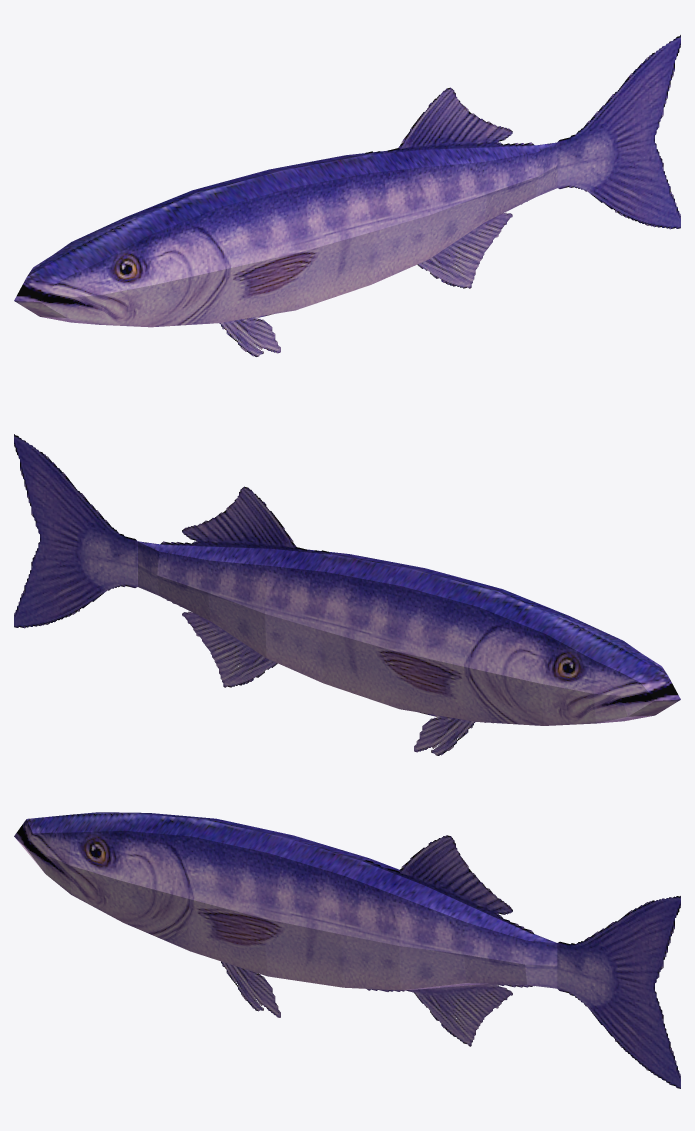
The model's file is Emberflash.fbx.
The picture shows the model from 3 angles, top to bottom: view 1: azimuth 30°, elevation 25°; view 2: azimuth 150°, elevation 25°; view 3: azimuth 330°, elevation 25°; orthographic projection.
Parts seen in each view (by area): view 1: Barracuda; view 2: Barracuda; view 3: Barracuda.
Part boxes in pixels (box(x1,y1,x2,y2)): Barracuda: box(14, 35, 680, 356); Barracuda: box(14, 434, 680, 755); Barracuda: box(14, 812, 680, 1088).
Size of the model in its own units: 210 by 82.1 by 20.3.
Materials: 1 (1 with a texture image).
